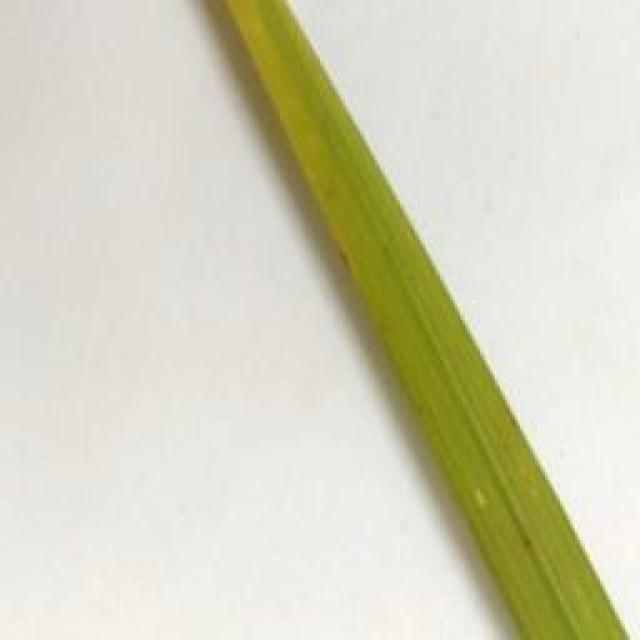Brown_Spot: (326, 231, 360, 285), (516, 526, 546, 565)
